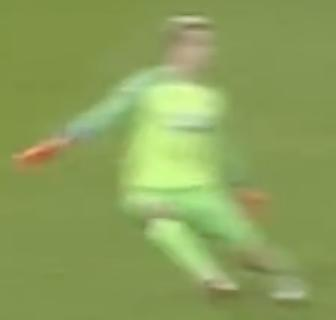goalkeeper: (7, 4, 332, 320)
